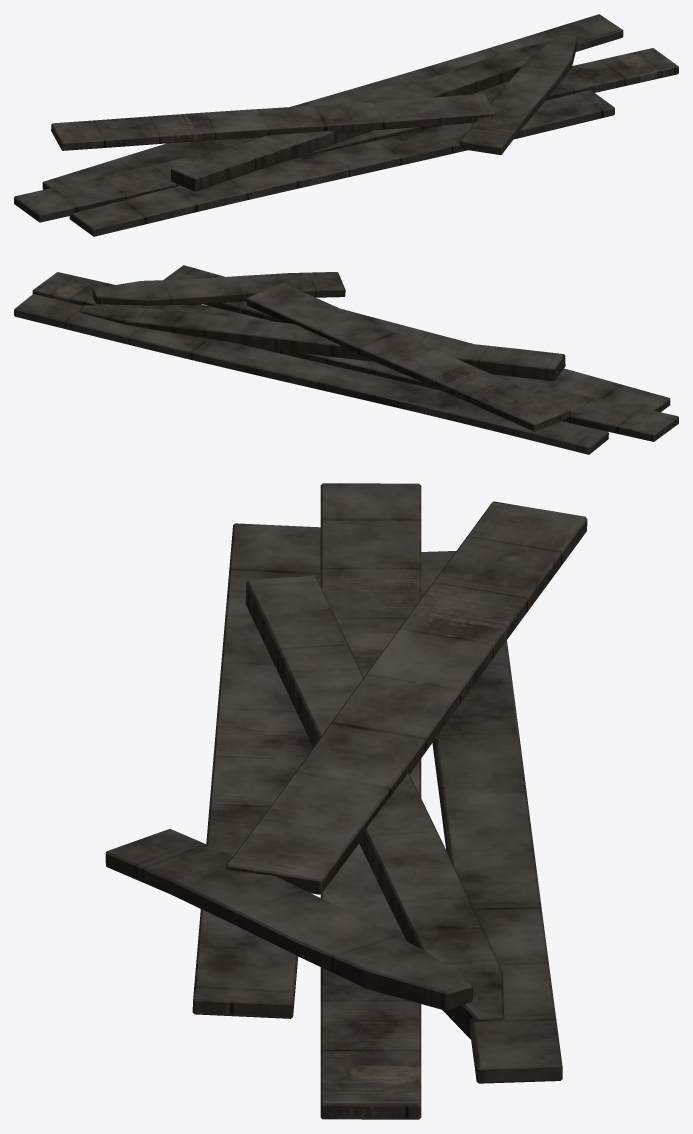
Rendered from Planks_Pile.fbx.
3 views of the same model, one above another, from view 1: azimuth 30°, elevation 25°; view 2: azimuth 150°, elevation 25°; view 3: azimuth 270°, elevation 25° (orthographic). The views are drawn at different scales.
Visible parts, largest first — view 1: Planks_Pile_Mesh; view 2: Planks_Pile_Mesh; view 3: Planks_Pile_Mesh.
Part boxes in pixels (x1,y1,x2,y2): Planks_Pile_Mesh: [14, 14, 678, 236]; Planks_Pile_Mesh: [14, 265, 678, 454]; Planks_Pile_Mesh: [105, 483, 587, 1119].
Size of the model in its own units: 2 by 0.1289 by 0.6703.
